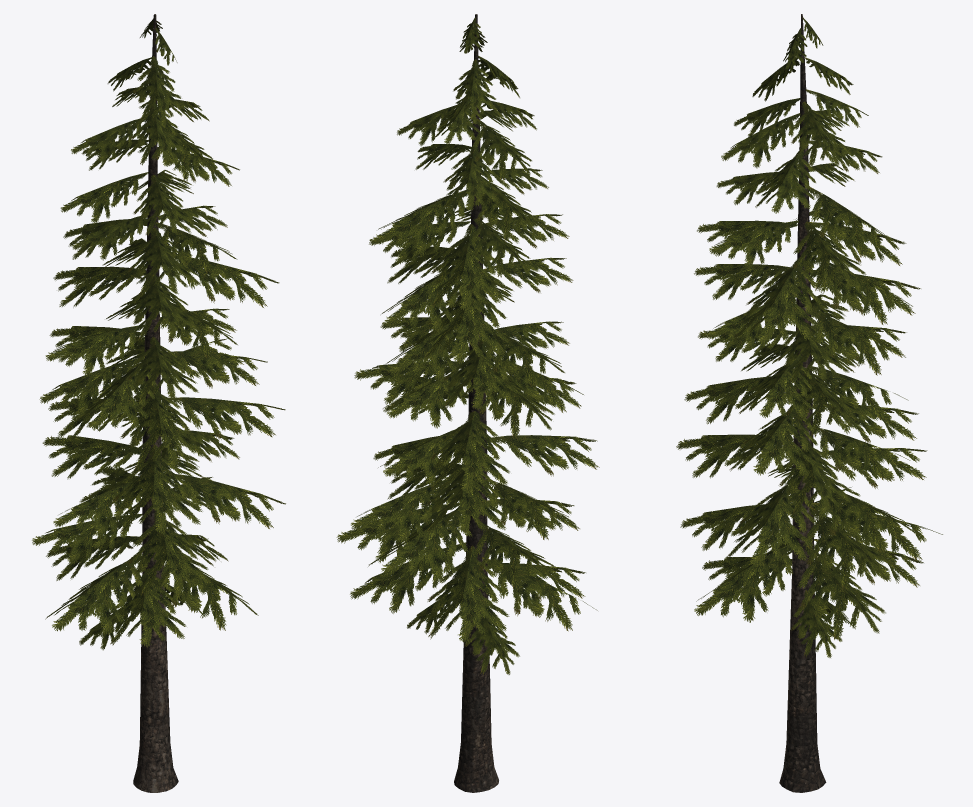
Rendered from pine_tree_n_2_1.obj.
3 renders of one model, left to right at view 1: azimuth 30°, elevation 25°; view 2: azimuth 150°, elevation 25°; view 3: azimuth 270°, elevation 25°, orthographic.
Visible parts, largest first — view 1: pine_tree_n_2_1_branches, pine_tree_n_2_1; view 2: pine_tree_n_2_1_branches, pine_tree_n_2_1; view 3: pine_tree_n_2_1_branches, pine_tree_n_2_1.
Boxes of the visible parts, left/top/right/bottom form: pine_tree_n_2_1_branches: left=32, top=18, right=285, bottom=650; pine_tree_n_2_1: left=133, top=14, right=178, bottom=792; pine_tree_n_2_1_branches: left=336, top=17, right=599, bottom=674; pine_tree_n_2_1: left=454, top=14, right=498, bottom=792; pine_tree_n_2_1_branches: left=676, top=17, right=942, bottom=657; pine_tree_n_2_1: left=779, top=14, right=826, bottom=792.
Bounding box in the file's own units: 3.08 × 9.1 × 3.29.
